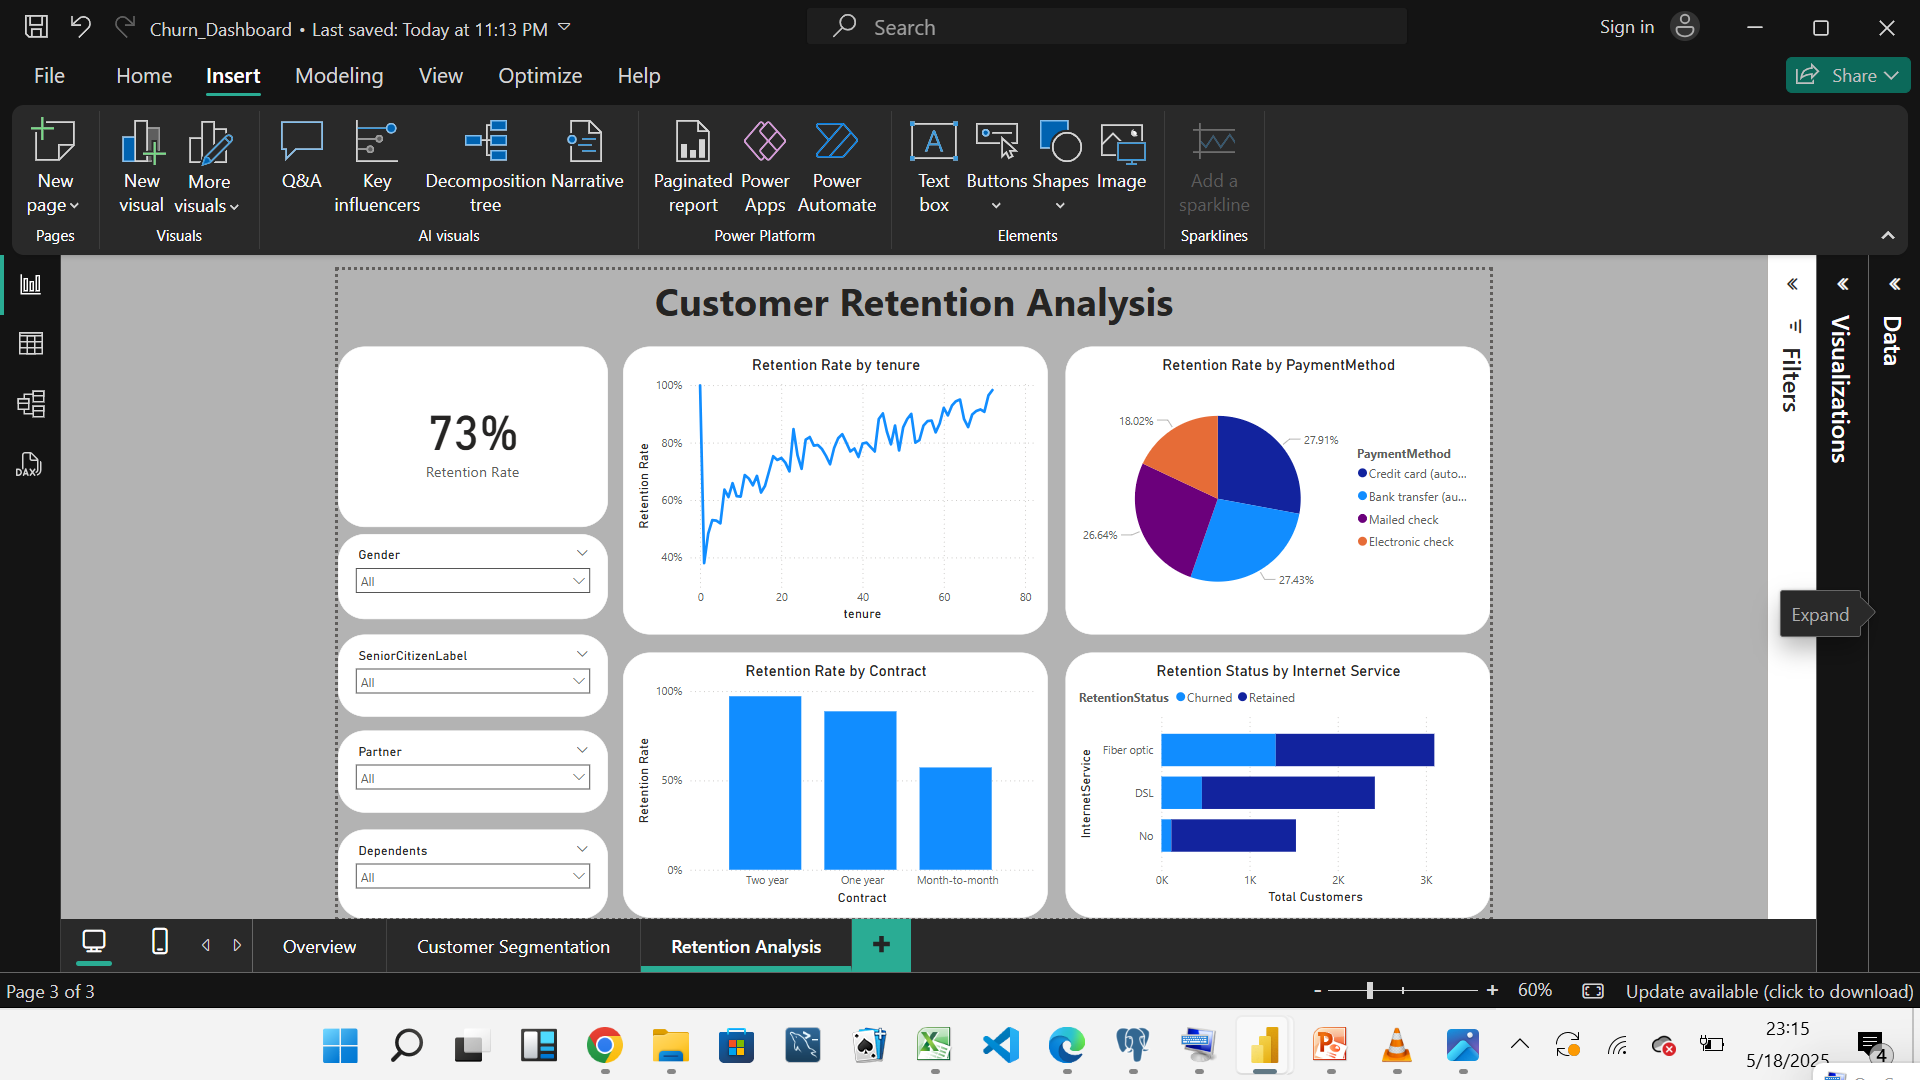

What the dashboard file says about the page in this screenshot:
{"tool":"powerbi","page":{"name":"Retention Analysis","canvas":[1280,720],"ordinal":2},"visuals":[{"type":"card","fields":{"Values":["CustomerChurn.Retention Rate"]},"box":[0,84.5,299.8,200.4],"z":0},{"type":"clusteredColumnChart","fields":{"Category":["CustomerChurn.Contract"],"Y":["CustomerChurn.Retention Rate"]},"box":[316.4,425.7,472.1,294.9],"z":1000},{"type":"lineChart","fields":{"Category":["CustomerChurn.tenure"],"Y":["CustomerChurn.Retention Rate"]},"box":[316.4,84.5,472.1,319.7],"z":2000},{"type":"pieChart","fields":{"Y":["CustomerChurn.Retention Rate"],"Category":["CustomerChurn.PaymentMethod"]},"box":[808.4,84.5,472.1,319.7],"z":3000},{"type":"barChart","title":"Retention Status by Internet Service","fields":{"Y":["CustomerChurn.Total Customers"],"Category":["CustomerChurn.InternetService"],"Series":["CustomerChurn.RetentionStatus"]},"box":[808.4,425.7,472.1,294.9],"z":4000},{"type":"slicer","fields":{"Values":["CustomerChurn.Gender"]},"box":[0,293.2,299.8,94.4],"z":4001},{"type":"slicer","fields":{"Values":["CustomerChurn.SeniorCitizenLabel"]},"box":[0,404.2,299.8,91.1],"z":4002},{"type":"slicer","fields":{"Values":["CustomerChurn.Partner"]},"box":[0,511.9,299.8,91.1],"z":4003},{"type":"slicer","fields":{"Values":["CustomerChurn.Dependents"]},"box":[0,621.2,299.8,99.4],"z":4004},{"type":"textbox","box":[0,0,1280.5,67.9],"z":4005}]}

Visuals, with their boxes on the page's 1280x720 design canvas (x1, y1, x2, y2). These are canvas units, not pixel positions in the 1920x1080 screenshot, which may show the page scaled, cropped or inside an application window:
card - CustomerChurn.Retention Rate: 0 84 300 285
clusteredColumnChart - CustomerChurn.Contract x CustomerChurn.Retention Rate: 316 426 788 721
lineChart - CustomerChurn.tenure x CustomerChurn.Retention Rate: 316 84 788 404
pieChart - CustomerChurn.Retention Rate x CustomerChurn.PaymentMethod: 808 84 1280 404
"Retention Status by Internet Service" barChart: 808 426 1280 721
slicer - CustomerChurn.Gender: 0 293 300 388
slicer - CustomerChurn.SeniorCitizenLabel: 0 404 300 495
slicer - CustomerChurn.Partner: 0 512 300 603
slicer - CustomerChurn.Dependents: 0 621 300 721
textbox: 0 0 1280 68
